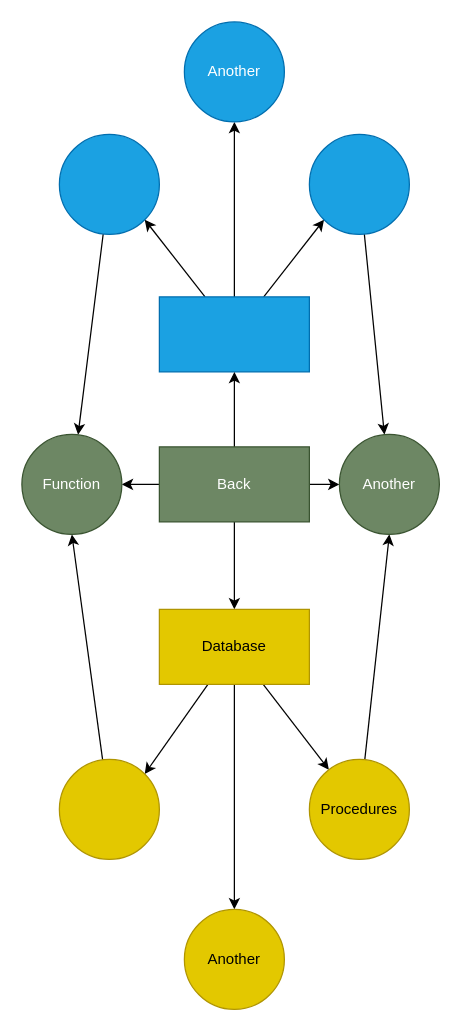
Some shapes in this 461 by 1031 pixel diagram are drawn without their labels. Each missing label, with the centre of its shape:
Button: point (108, 183)
Front: point (233, 334)
Table: point (108, 808)
Title: point (358, 183)
